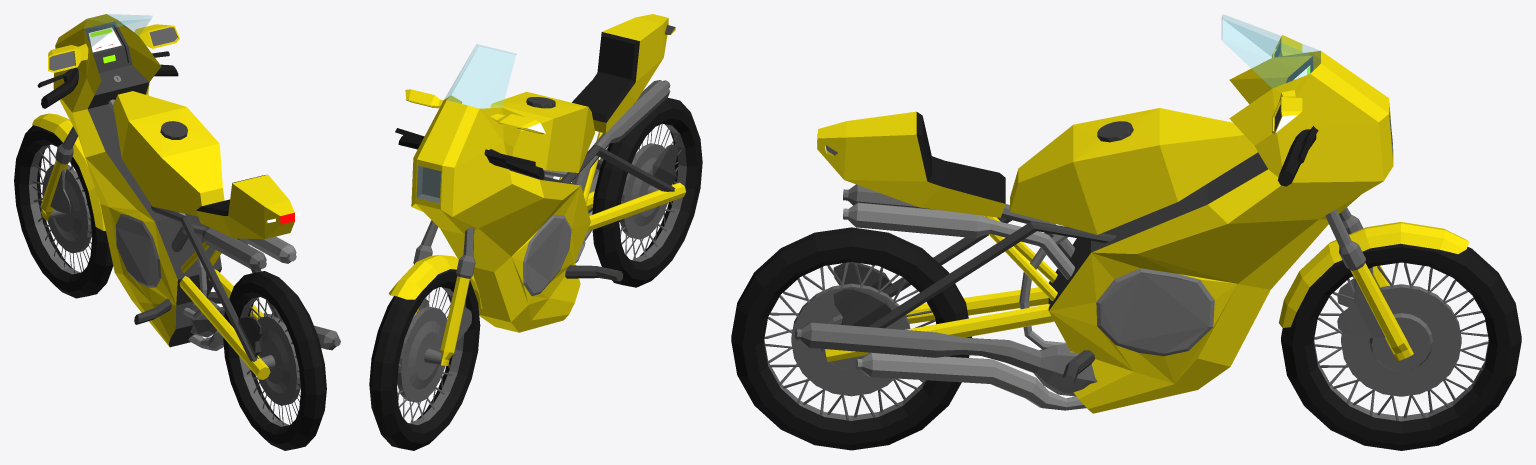
File: yamaha_low-poly_bike.glb
The picture shows the model from 3 angles, left to right: view 1: azimuth 30°, elevation 25°; view 2: azimuth 150°, elevation 25°; view 3: azimuth 270°, elevation 25°; orthographic projection. The views are drawn at different scales.
Parts seen in each view (by area): view 1: Cube, Circle.003, Circle.001, Cylinder.005, Cylinder.008, Cube.002, Cylinder.007, Cylinder.006, Cylinder.003, Cylinder, Cube.001, Circle.000 (+4 smaller); view 2: Cube, Circle.001, Circle.003, Cylinder.007, Cylinder.005, Cube.002, Cylinder.008, Cylinder.006, Cylinder.003, Cylinder.004, Circle.002, Circle.000; view 3: Cube, Circle.001, Circle.003, Cylinder, Cylinder.005, Cylinder.008, Cylinder.001, Cylinder.007, Cube.001, Cylinder.006, Circle.000, Circle.002 (+3 smaller).
Boxes of the visible parts, box(x1,y1,x2,y2) form: Cube: box(48, 14, 301, 347); Circle.003: box(223, 271, 326, 450); Circle.001: box(14, 125, 113, 298); Cylinder.005: box(151, 205, 284, 361); Cylinder.008: box(179, 241, 270, 379); Cube.002: box(171, 224, 266, 270); Cylinder.007: box(41, 126, 77, 220); Cylinder.006: box(32, 113, 105, 230); Cylinder.003: box(37, 51, 178, 108); Cylinder: box(190, 299, 340, 350); Cube.001: box(201, 226, 296, 263); Circle.000: box(32, 145, 91, 272); Cube: box(405, 14, 675, 332); Circle.001: box(369, 269, 480, 450); Circle.003: box(592, 98, 702, 287); Cylinder.007: box(413, 220, 475, 365); Cylinder.005: box(560, 144, 677, 191); Cube.002: box(573, 80, 670, 191); Cylinder.008: box(559, 132, 685, 231); Cylinder.006: box(388, 255, 482, 308); Cylinder.003: box(395, 128, 544, 179); Cylinder.004: box(565, 265, 623, 281); Circle.002: box(620, 123, 681, 260); Circle.000: box(397, 287, 458, 423); Cube: box(817, 14, 1393, 413); Circle.001: box(1281, 243, 1521, 450); Circle.003: box(731, 227, 971, 450); Cylinder: box(794, 322, 1097, 396); Cylinder.005: box(833, 217, 1116, 328); Cylinder.008: box(825, 215, 1057, 361); Cylinder.001: box(855, 352, 1086, 410); Cylinder.007: box(1326, 207, 1413, 360); Cube.001: box(843, 202, 1074, 279); Cylinder.006: box(1278, 222, 1469, 327); Circle.000: box(1314, 263, 1488, 420); Circle.002: box(764, 262, 935, 420).
Size of the model in its own units: 7.45 by 17.03 by 28.9.
